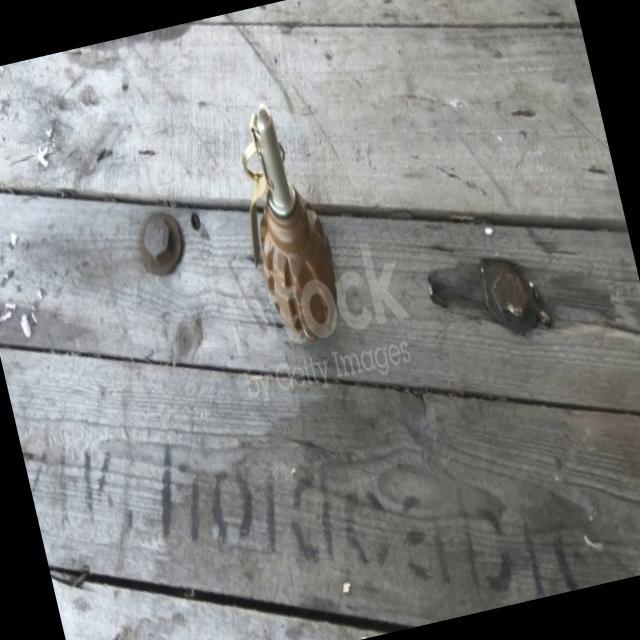grenade: (217, 92, 351, 358)
